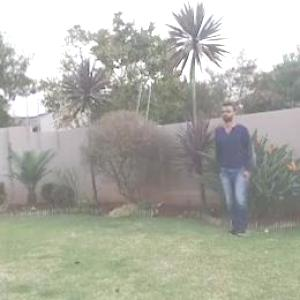follow: (216, 101, 256, 239)
